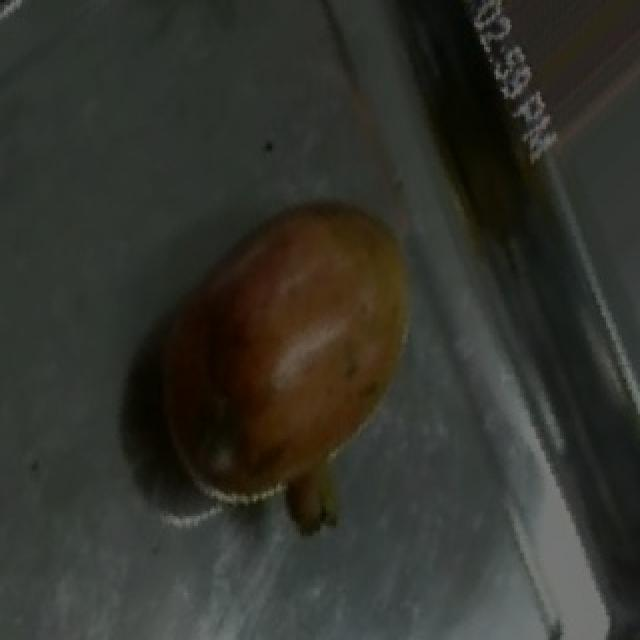fruit: (176, 169, 444, 399), (144, 278, 372, 536)
